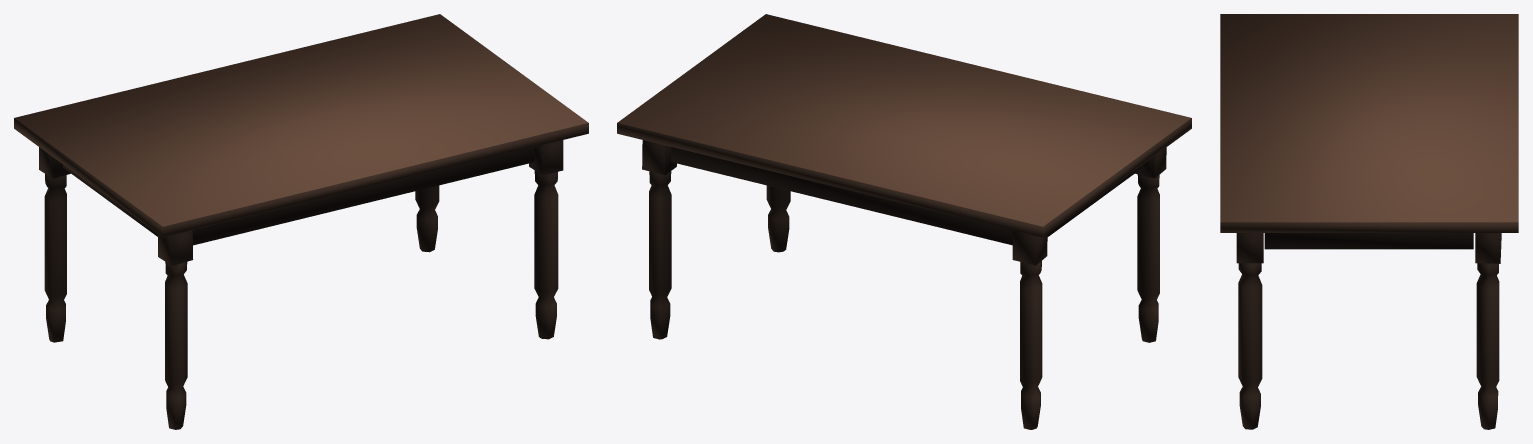
3 renders of one model, left to right at view 1: azimuth 30°, elevation 25°; view 2: azimuth 150°, elevation 25°; view 3: azimuth 270°, elevation 25°, orthographic.
Visible parts, largest first — view 1: alt2.019; view 2: alt2.019; view 3: alt2.019.
Boxes of the visible parts, x1=… form: alt2.019: x1=14, y1=14, x2=588, y2=429; alt2.019: x1=617, y1=14, x2=1191, y2=429; alt2.019: x1=1220, y1=14, x2=1518, y2=429.
Size of the model in its own units: 0.5 by 0.2441 by 0.3025.
